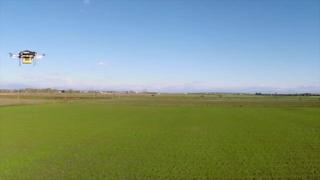UAV: (102, 132, 257, 180)
